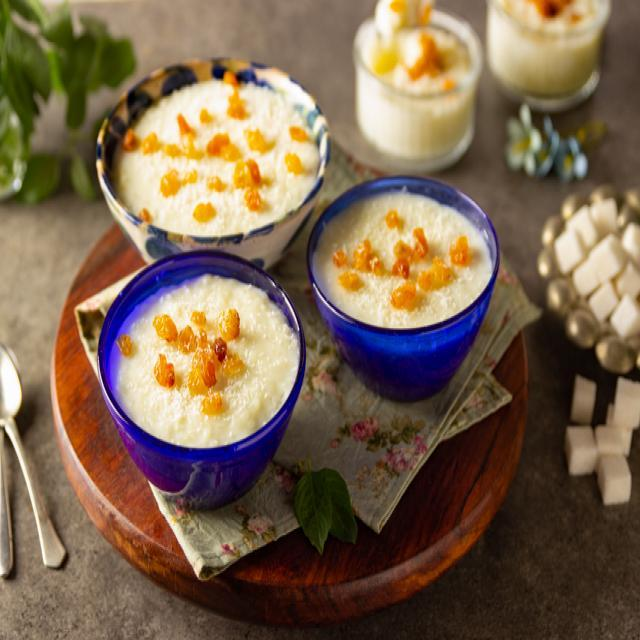roz blabn: (107, 265, 303, 475), (101, 77, 324, 240), (311, 186, 495, 368)
